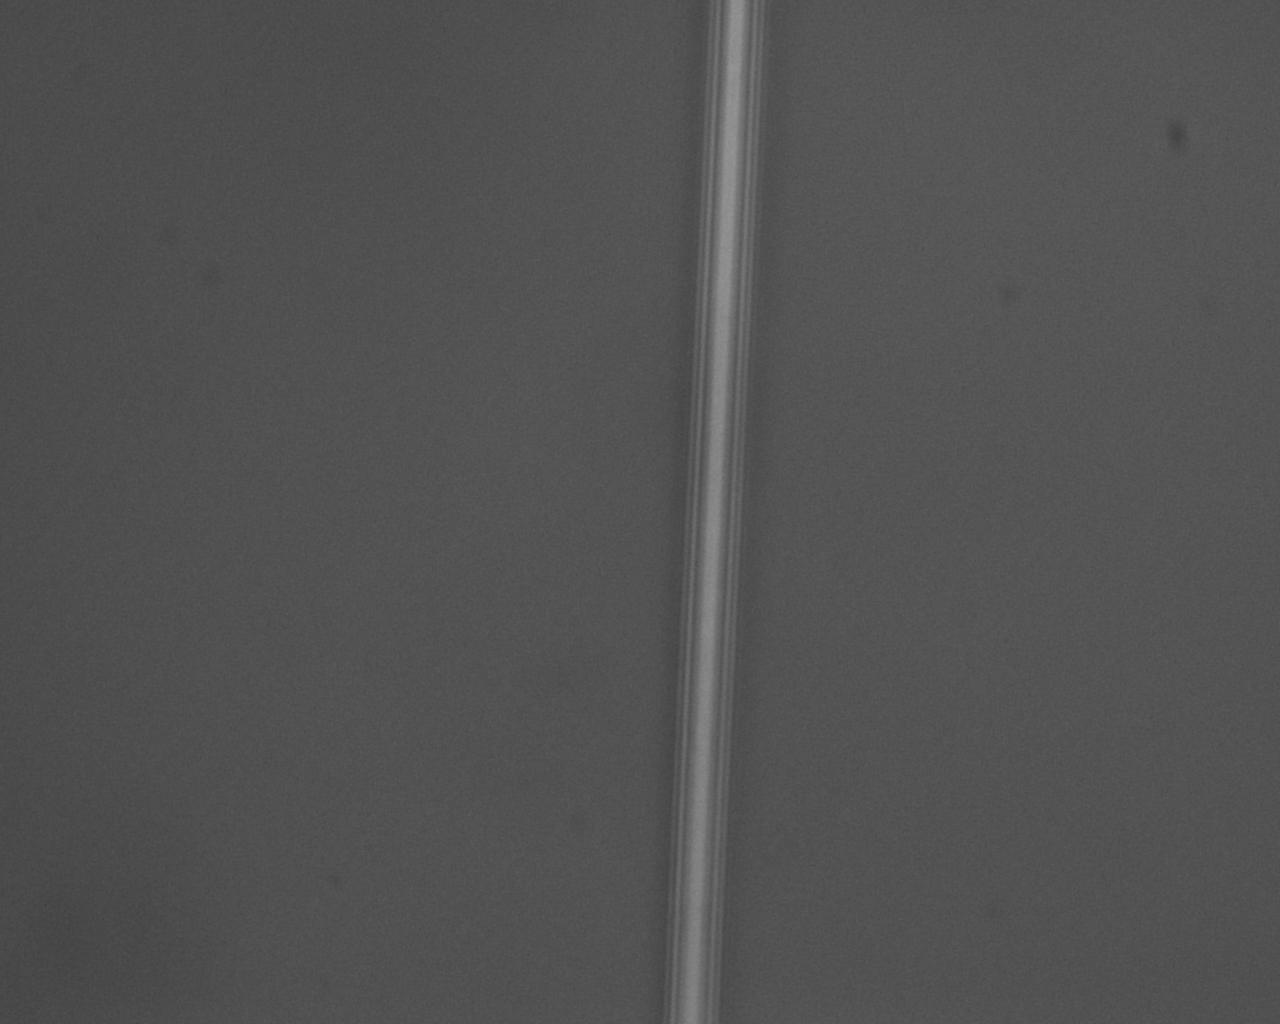fiber: (0, 471, 524, 975), (0, 148, 507, 471), (524, 471, 1188, 673)
